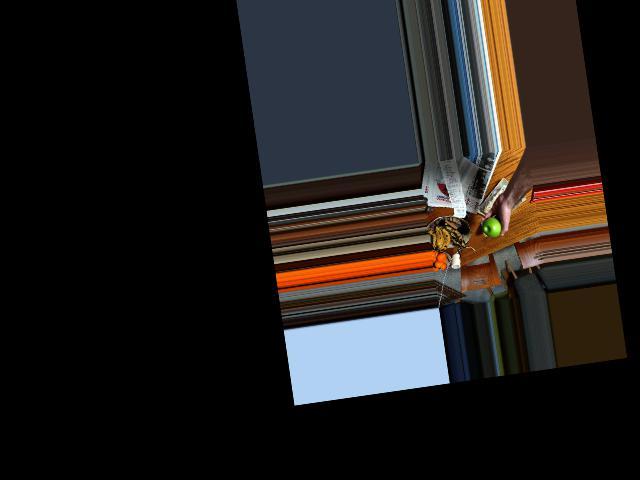apple: (479, 213, 505, 240)
